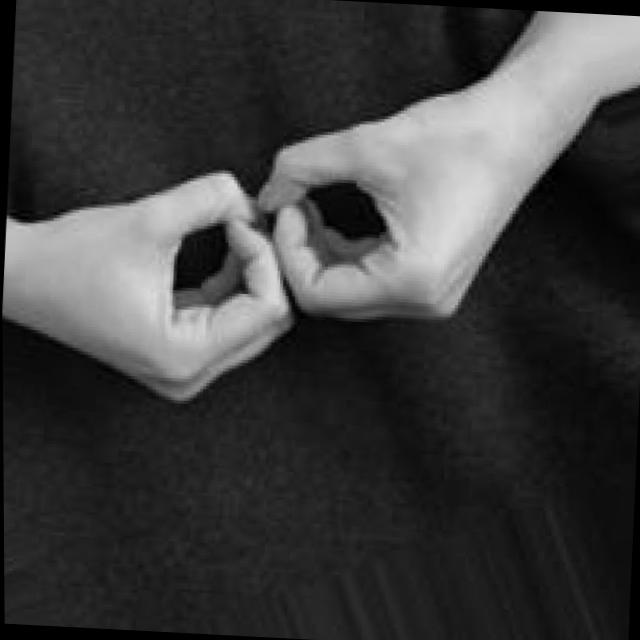B: (0, 52, 570, 429)
